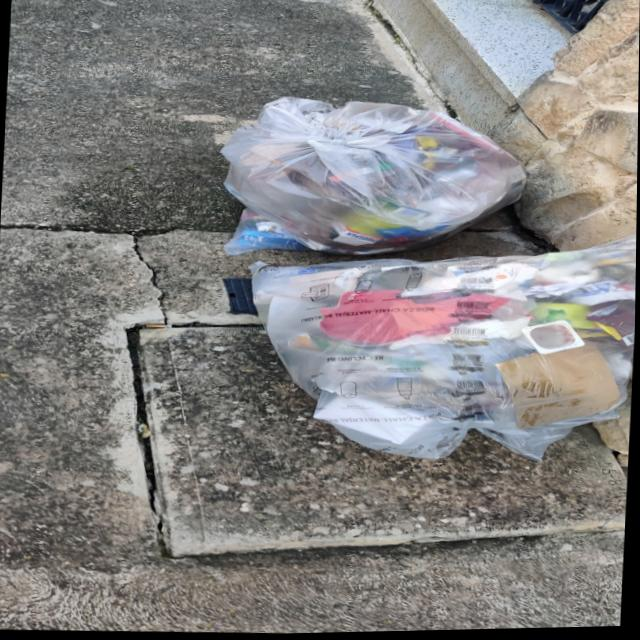Organic Waste -White Bags-: (251, 239, 637, 468), (216, 99, 528, 261)
